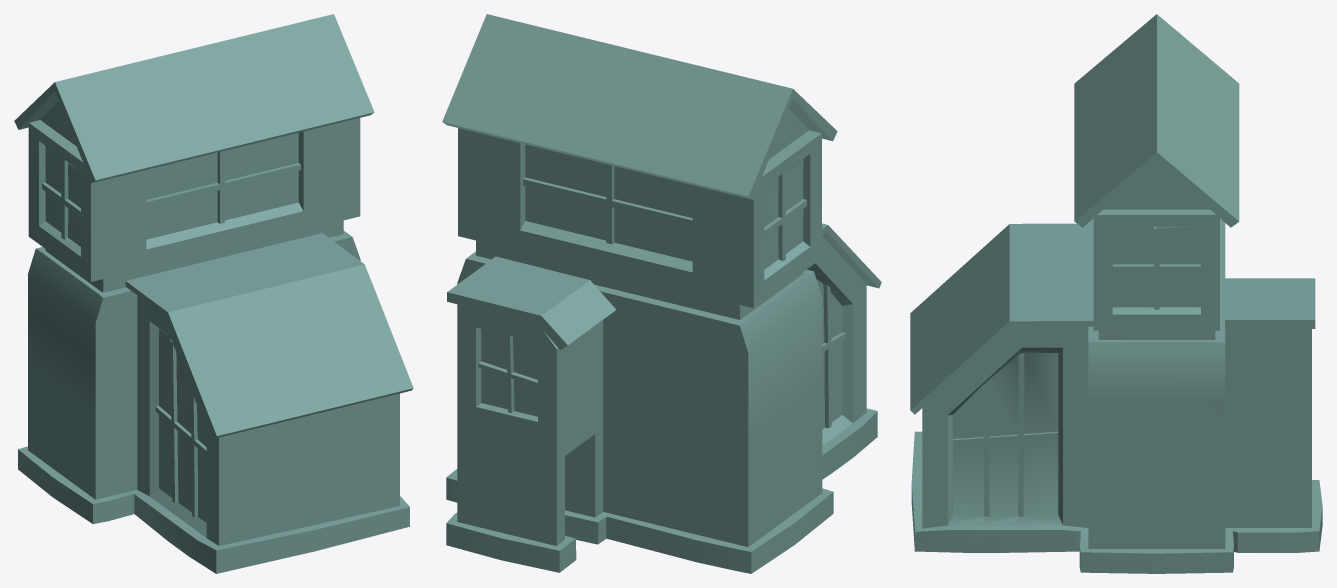
File: building 5.fbx
The picture shows the model from 3 angles, left to right: view 1: azimuth 30°, elevation 25°; view 2: azimuth 150°, elevation 25°; view 3: azimuth 270°, elevation 25°; orthographic projection. The views are drawn at different scales.
Parts seen in each view (by area): view 1: building 5; view 2: building 5; view 3: building 5.
Part boxes in pixels (box(x1,y1,x2,y2)): building 5: box(14, 14, 413, 573); building 5: box(442, 14, 881, 573); building 5: box(910, 14, 1322, 573).
Size of the model in its own units: 3154 by 4414 by 3918.
